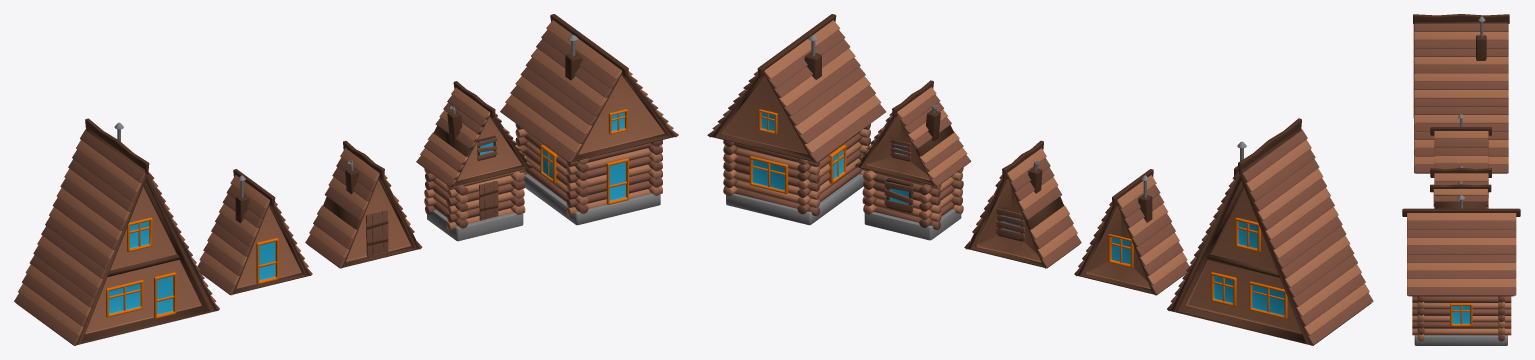
File: Forest_Houses_Smooth.fbx
The picture shows the model from 3 angles, left to right: view 1: azimuth 30°, elevation 25°; view 2: azimuth 150°, elevation 25°; view 3: azimuth 270°, elevation 25°; orthographic projection. The views are drawn at different scales.
Parts seen in each view (by area): view 1: Forest_House_Smooth_Type 1_01, Forest_House_Smooth_Type 2_01, Forest_House_Smooth_Type 2_02, Forest_House_Smooth_Type 1_03, Forest_House_Smooth_Type 1_02; view 2: Forest_House_Smooth_Type 1_01, Forest_House_Smooth_Type 2_01, Forest_House_Smooth_Type 2_02, Forest_House_Smooth_Type 1_03, Forest_House_Smooth_Type 1_02; view 3: Forest_House_Smooth_Type 2_01, Forest_House_Smooth_Type 1_01, Forest_House_Smooth_Type 1_02, Forest_House_Smooth_Type 2_02, Forest_House_Smooth_Type 1_03.
Boxes of the visible parts, left/top/right/bottom form: Forest_House_Smooth_Type 1_01: left=14, top=118, right=219, bottom=345; Forest_House_Smooth_Type 2_01: left=500, top=14, right=678, bottom=225; Forest_House_Smooth_Type 2_02: left=416, top=81, right=532, bottom=241; Forest_House_Smooth_Type 1_03: left=305, top=141, right=422, bottom=268; Forest_House_Smooth_Type 1_02: left=197, top=169, right=312, bottom=295; Forest_House_Smooth_Type 1_01: left=1167, top=118, right=1373, bottom=345; Forest_House_Smooth_Type 2_01: left=707, top=14, right=886, bottom=225; Forest_House_Smooth_Type 2_02: left=854, top=80, right=971, bottom=240; Forest_House_Smooth_Type 1_03: left=964, top=140, right=1081, bottom=268; Forest_House_Smooth_Type 1_02: left=1074, top=169, right=1189, bottom=295; Forest_House_Smooth_Type 2_01: left=1402, top=195, right=1520, bottom=345; Forest_House_Smooth_Type 1_01: left=1413, top=14, right=1509, bottom=173; Forest_House_Smooth_Type 1_02: left=1430, top=114, right=1491, bottom=169; Forest_House_Smooth_Type 2_02: left=1430, top=181, right=1491, bottom=208; Forest_House_Smooth_Type 1_03: left=1430, top=166, right=1491, bottom=208.
Size of the model in its own units: 2740 by 756 by 590.
